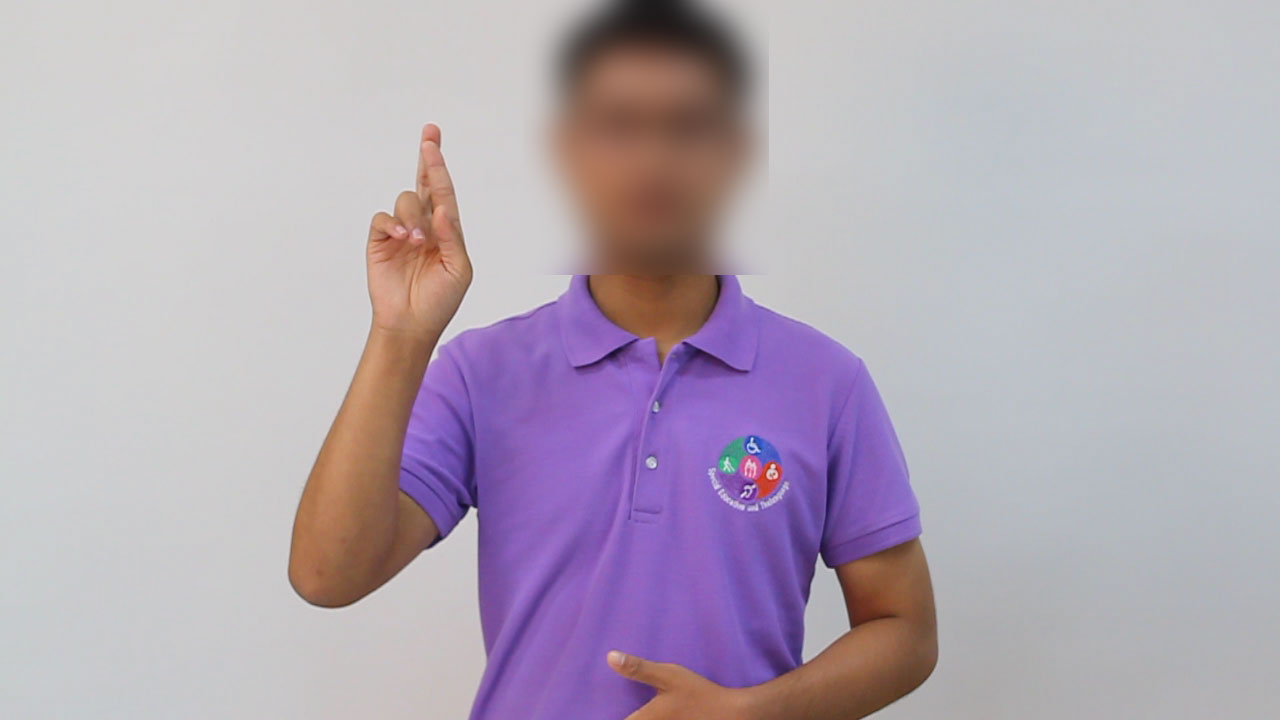rao: (347, 118, 482, 361)
